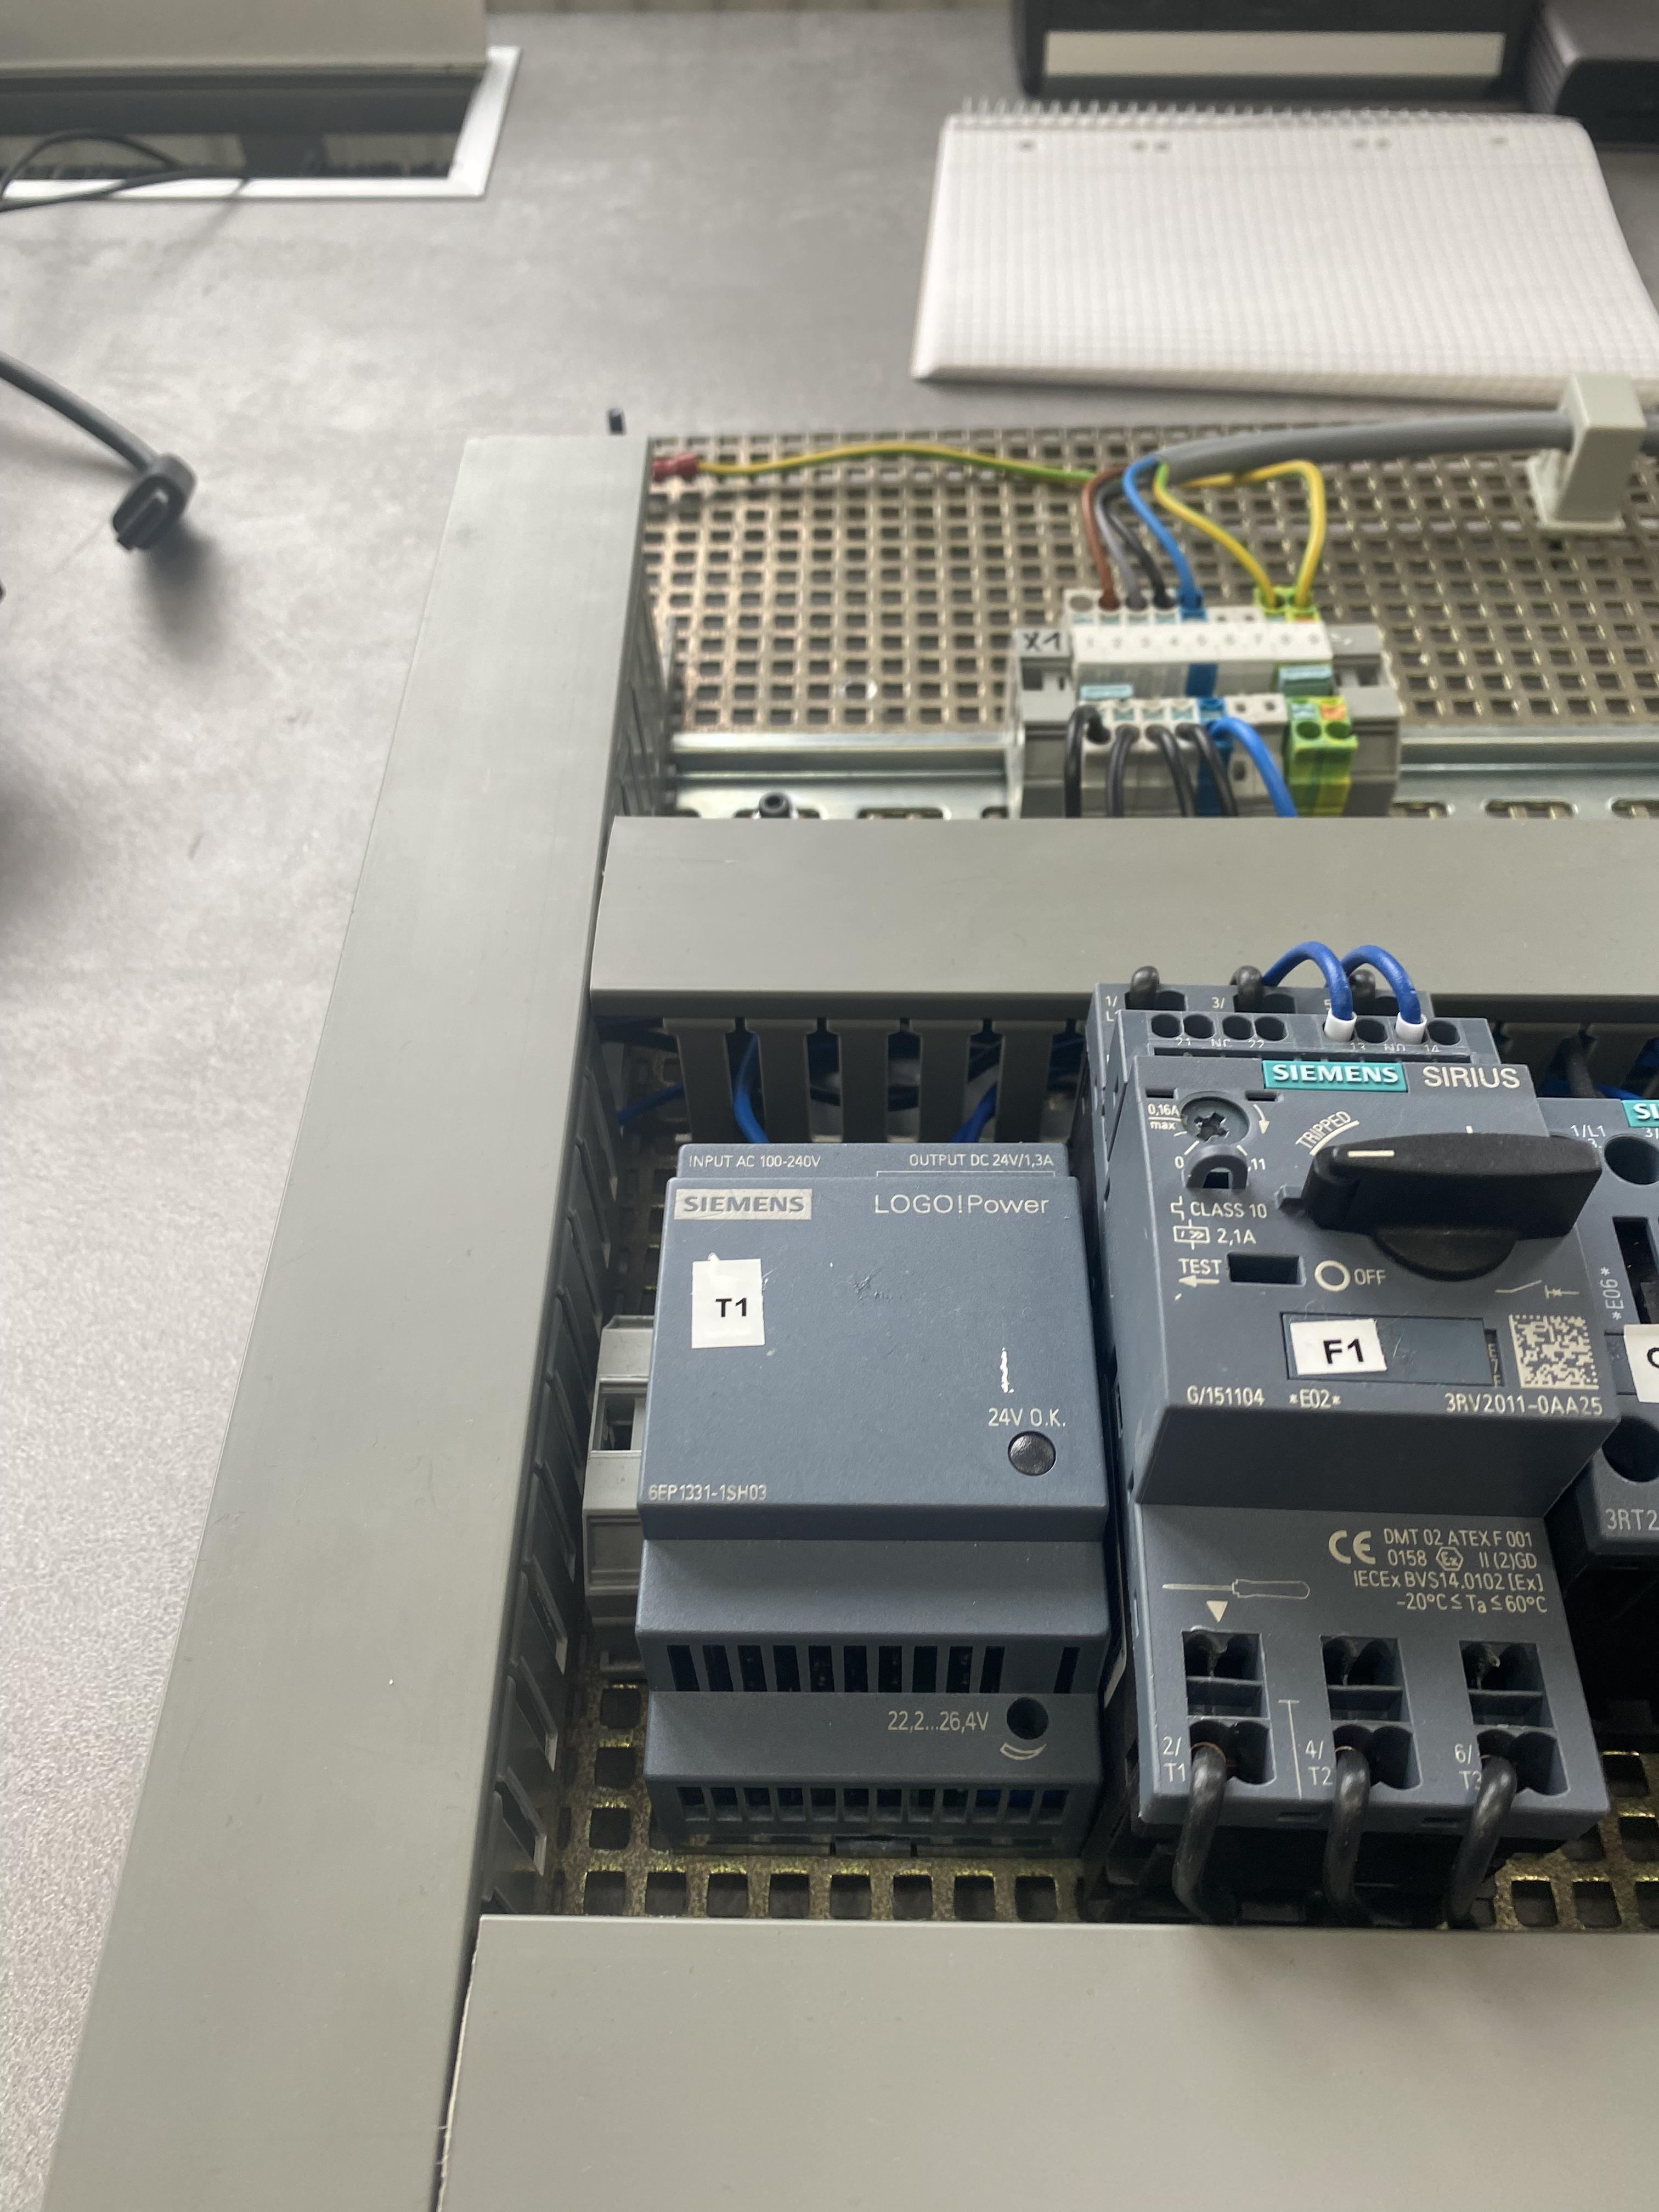F1: (1091, 975, 1615, 1815)
Q: (1537, 1097, 1656, 1545)
T1: (634, 1137, 1114, 1777)
X1: (1011, 583, 1408, 782)
